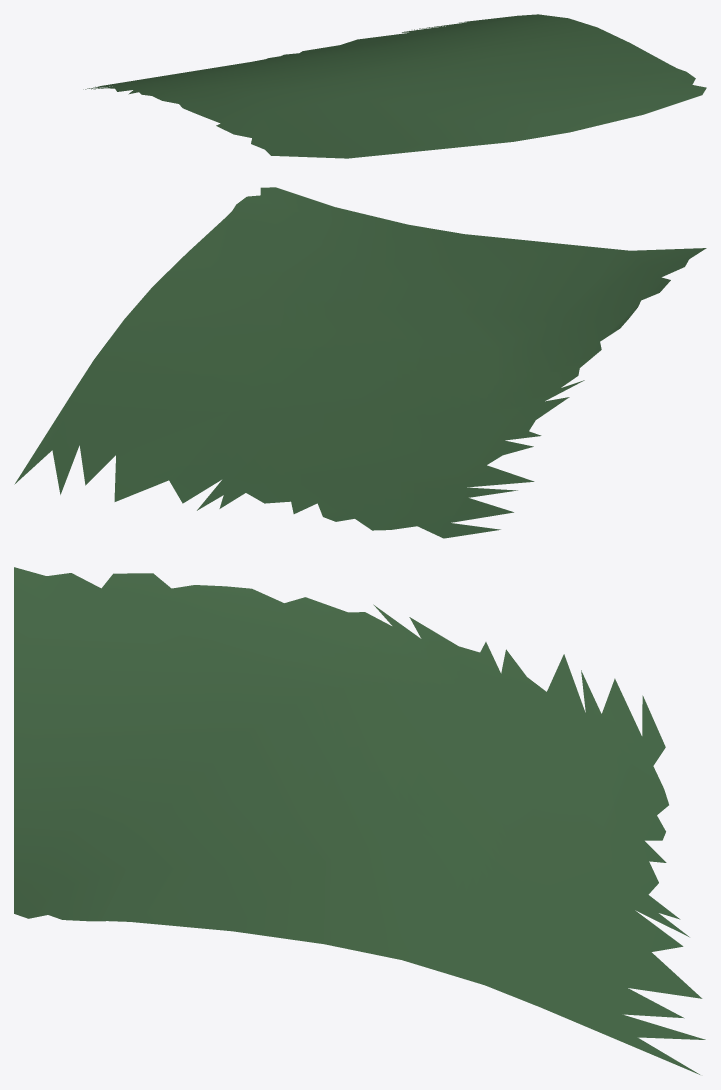
File: payo_land_x0_y10_lod2.glb
3 renders of one model, top to bottom at view 1: azimuth 30°, elevation 25°; view 2: azimuth 150°, elevation 25°; view 3: azimuth 270°, elevation 25°, orthographic. The views are drawn at different scales.
Visible parts, largest first — view 1: payo_land_x0_y10; view 2: payo_land_x0_y10; view 3: payo_land_x0_y10.
Part boxes in pixels (x1=…): payo_land_x0_y10: x1=83, y1=14, x2=706, y2=158; payo_land_x0_y10: x1=14, y1=187, x2=706, y2=538; payo_land_x0_y10: x1=14, y1=567, x2=705, y2=1074.
Size of the model in its own units: 277 by 89.11 by 258.
